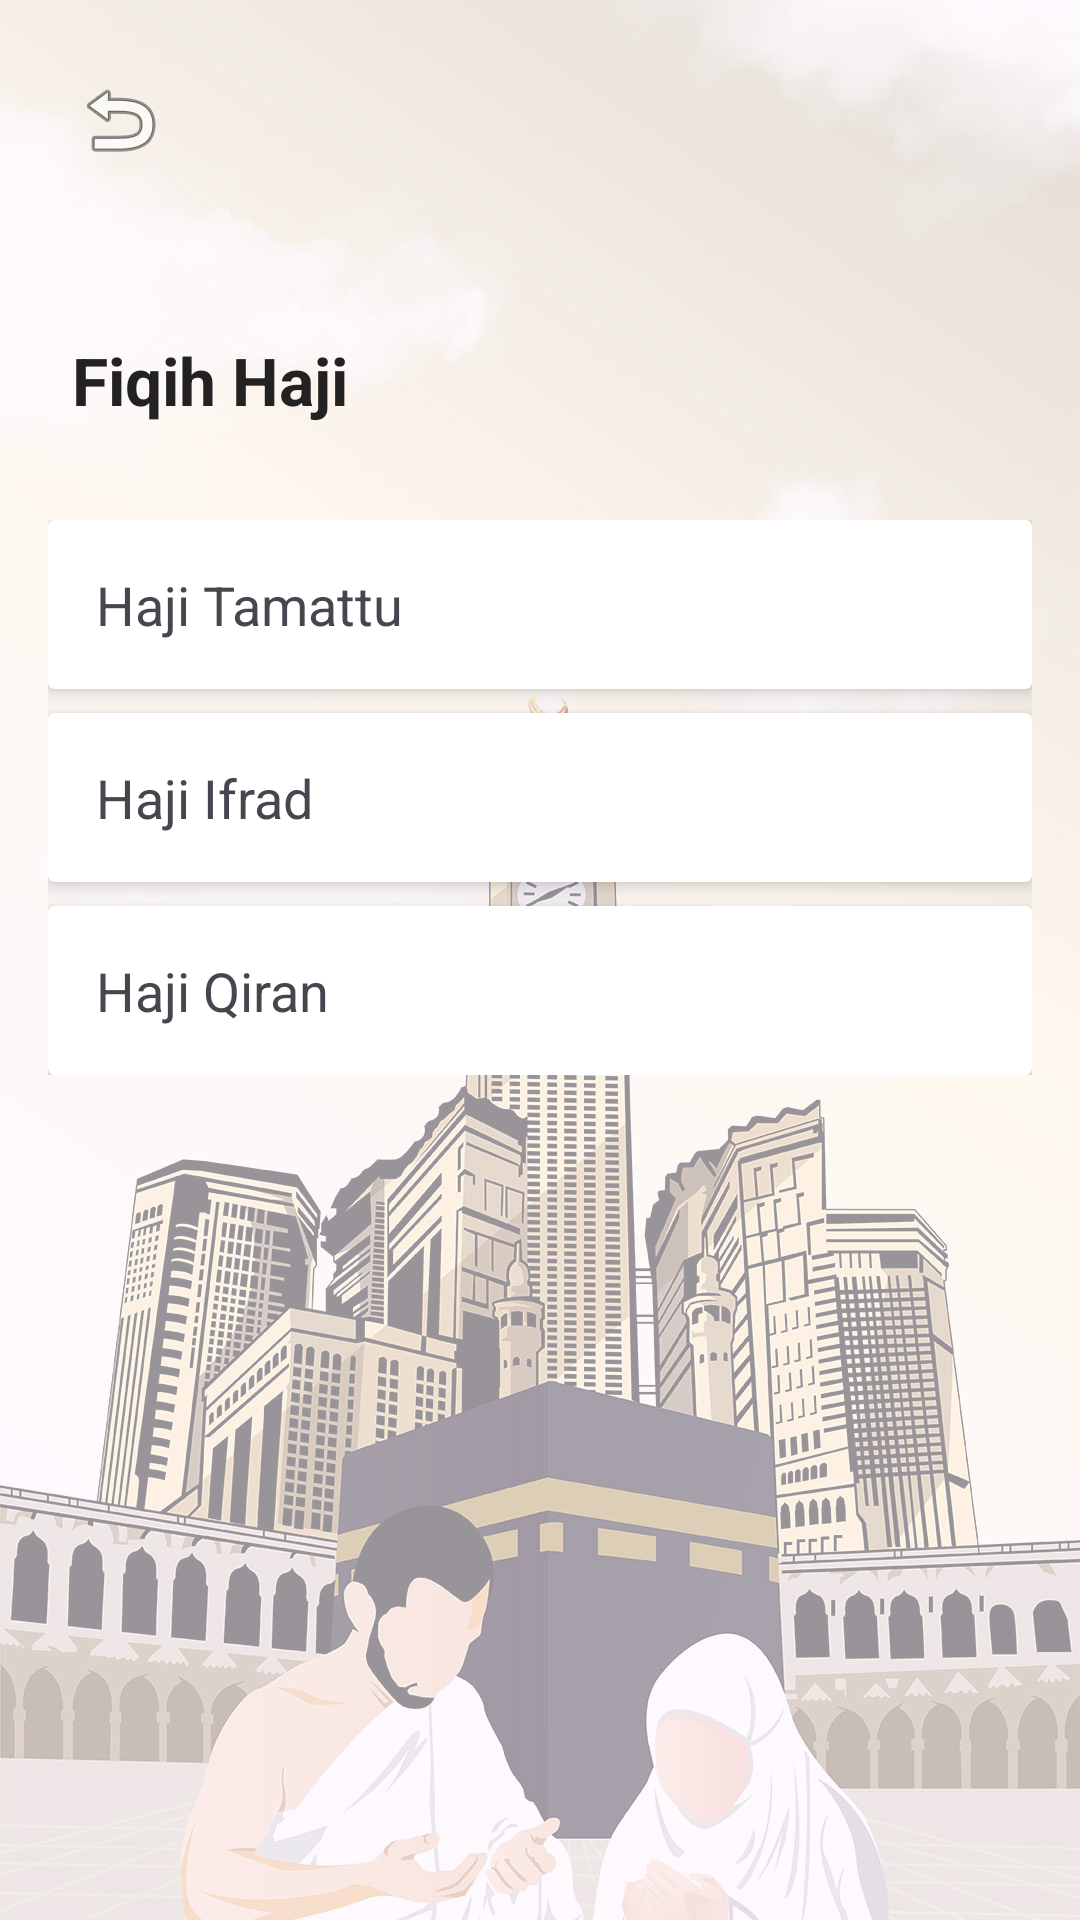

Where to tap for icons on this 1080w x 1920h app screen, as (x,y):
Kembali: (121,120)
